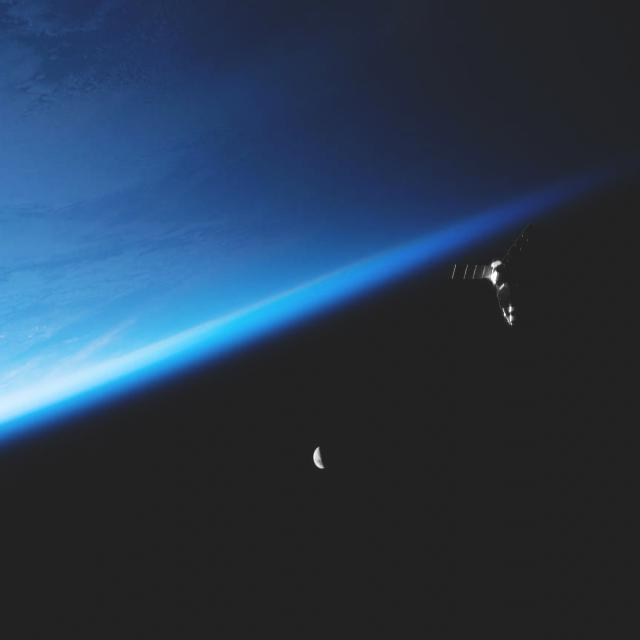satellite: (443, 240, 545, 338)
